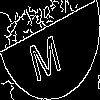M: (25, 25, 63, 83)
